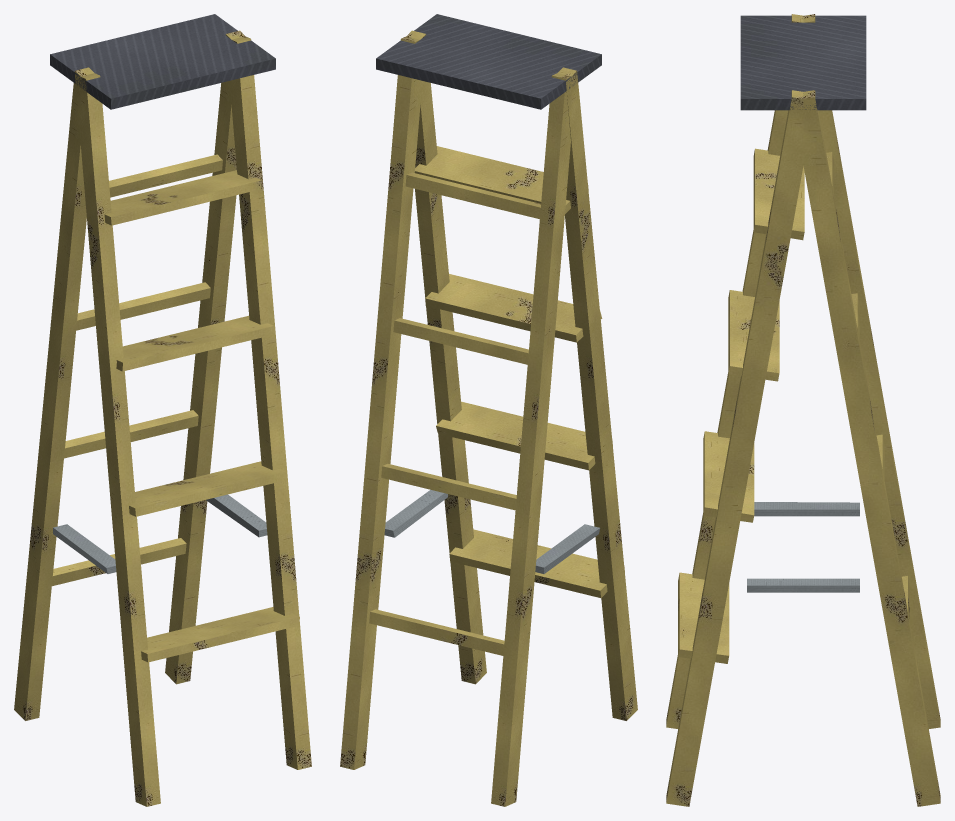
Rendered from ladder_v4.glb.
The picture shows the model from 3 angles, left to right: view 1: azimuth 30°, elevation 25°; view 2: azimuth 150°, elevation 25°; view 3: azimuth 270°, elevation 25°; orthographic projection. The views are drawn at different scales.
Visible parts, largest first — view 1: Variant_ladder_4; view 2: Variant_ladder_4; view 3: Variant_ladder_4.
Boxes of the visible parts, box(x1,y1,x2,y2) form: Variant_ladder_4: box(14, 14, 311, 806); Variant_ladder_4: box(340, 14, 637, 806); Variant_ladder_4: box(666, 14, 940, 806).
Size of the model in its own units: 0.4741 by 1.87 by 0.6553.
3 materials, 3 textured.
